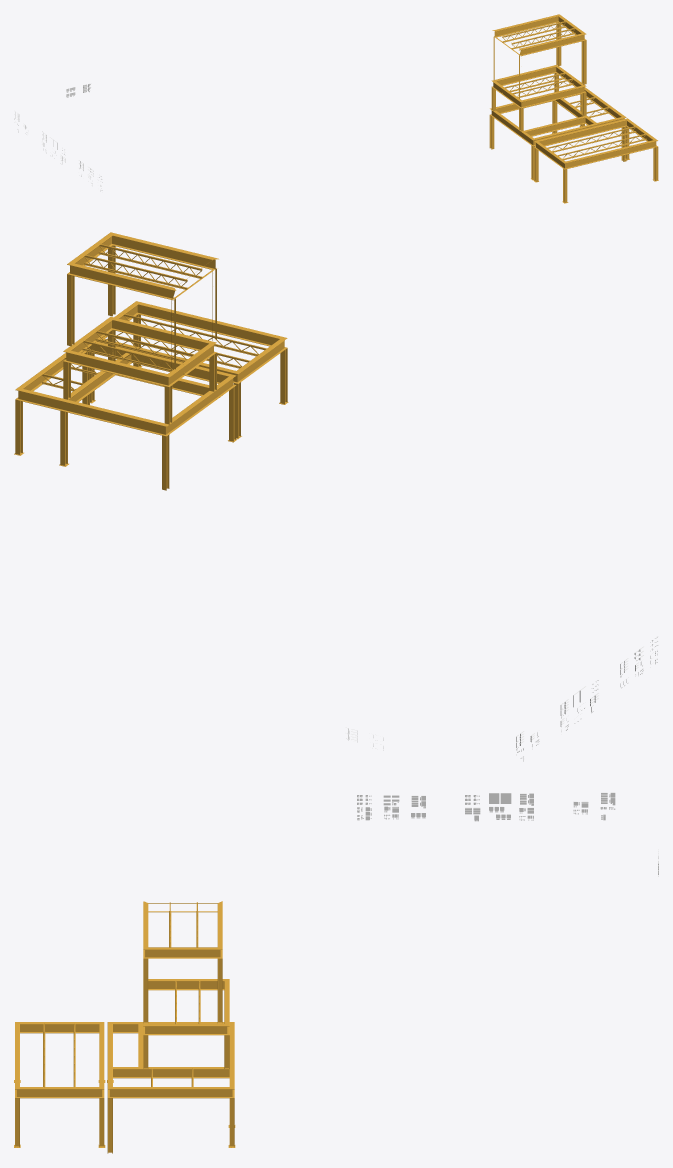
3 views of the same model, one above another, from view 1: azimuth 30°, elevation 25°; view 2: azimuth 150°, elevation 25°; view 3: azimuth 270°, elevation 25° (orthographic). The views are drawn at different scales.
Visible parts, largest first — view 1: n0_lr0_agg_merge_web_joist_001_0_fragment1_c1_0, n0_lr0_agg_prop_control_room_displays_color_0_fragment1_c-1_; view 2: n0_lr0_agg_merge_web_joist_001_0_fragment1_c1_0, n0_lr0_agg_prop_control_room_displays_color_0_fragment1_c-1_; view 3: n0_lr0_agg_merge_web_joist_001_0_fragment1_c1_0, n0_lr0_agg_prop_control_room_displays_color_0_fragment1_c-1_.
Boxes of the visible parts, x1,y1,x2,y2 form: n0_lr0_agg_merge_web_joist_001_0_fragment1_c1_0: (489,14,658,203); n0_lr0_agg_prop_control_room_displays_color_0_fragment1_c-1_: (14,83,102,192); n0_lr0_agg_merge_web_joist_001_0_fragment1_c1_0: (14,232,288,490); n0_lr0_agg_prop_control_room_displays_color_0_fragment1_c-1_: (345,636,658,761); n0_lr0_agg_merge_web_joist_001_0_fragment1_c1_0: (14,901,235,1153); n0_lr0_agg_prop_control_room_displays_color_0_fragment1_c-1_: (357,792,658,876).
Size of the model in its own units: 1766 by 480 by 1526.
